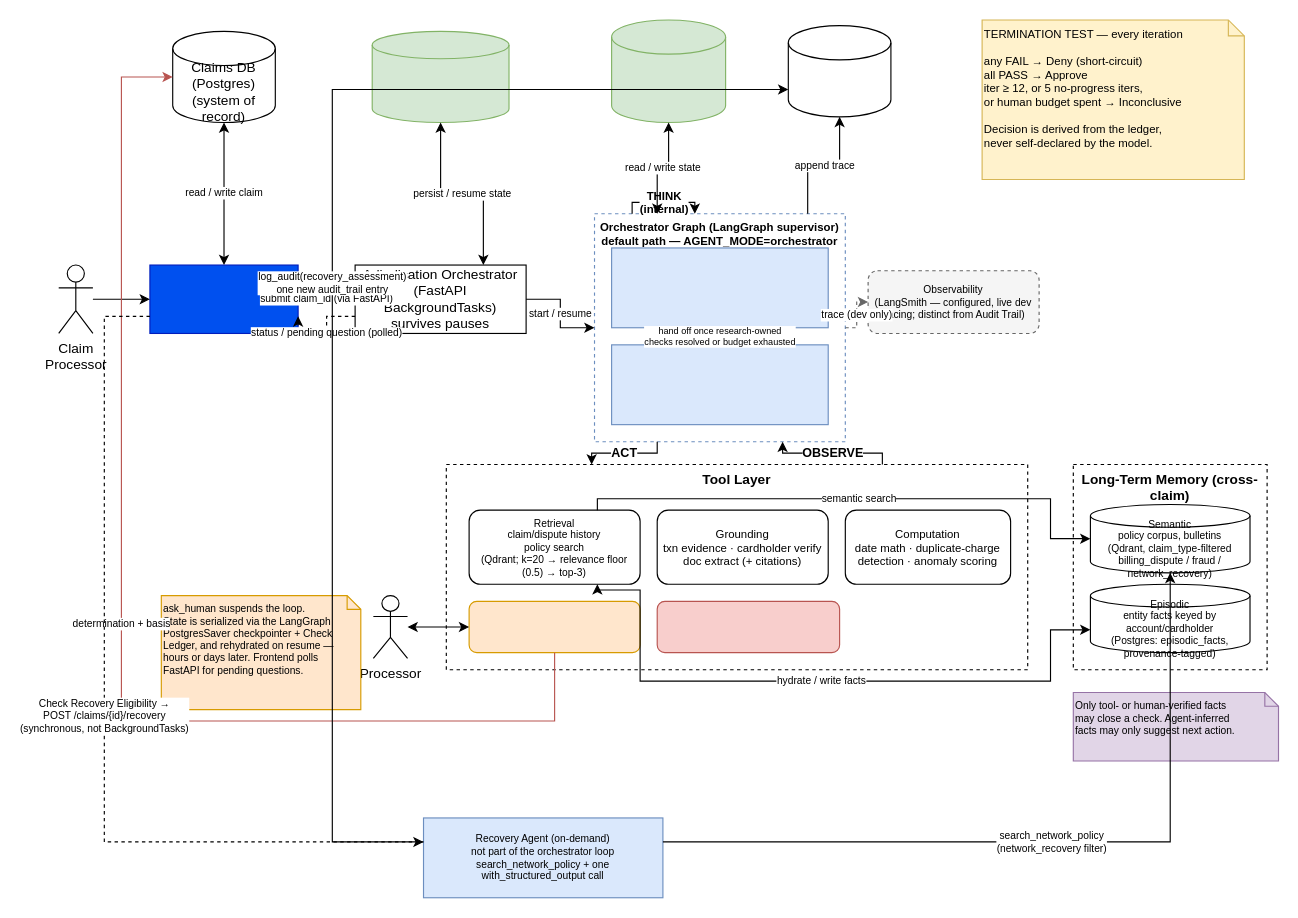
The diagram is 1298 pixels wide and 918 high, and some of its shapes have lost their labels. Each missing label, with the centre of its shape:
ask_human (retrieval of last resort): the point at 554,626
Audit Trail (Postgres) (append-only): the point at 839,71
Check Ledger (Postgres) PASS / FAIL / UNKNOWN / BLOCKED: the point at 668,71
Checkpointer (LangGraph PostgresSaver) resumable agent state: the point at 440,76
Claims Application Frontend (React): the point at 223,298
Decisioning Sub-Agent (Computation + ask_human + write_determination): the point at 719,384
Research Sub-Agent (Grounding + Retrieval tools) LLM proposes · harness executes: the point at 719,287
write_determination single irreversible write: the point at 748,626
